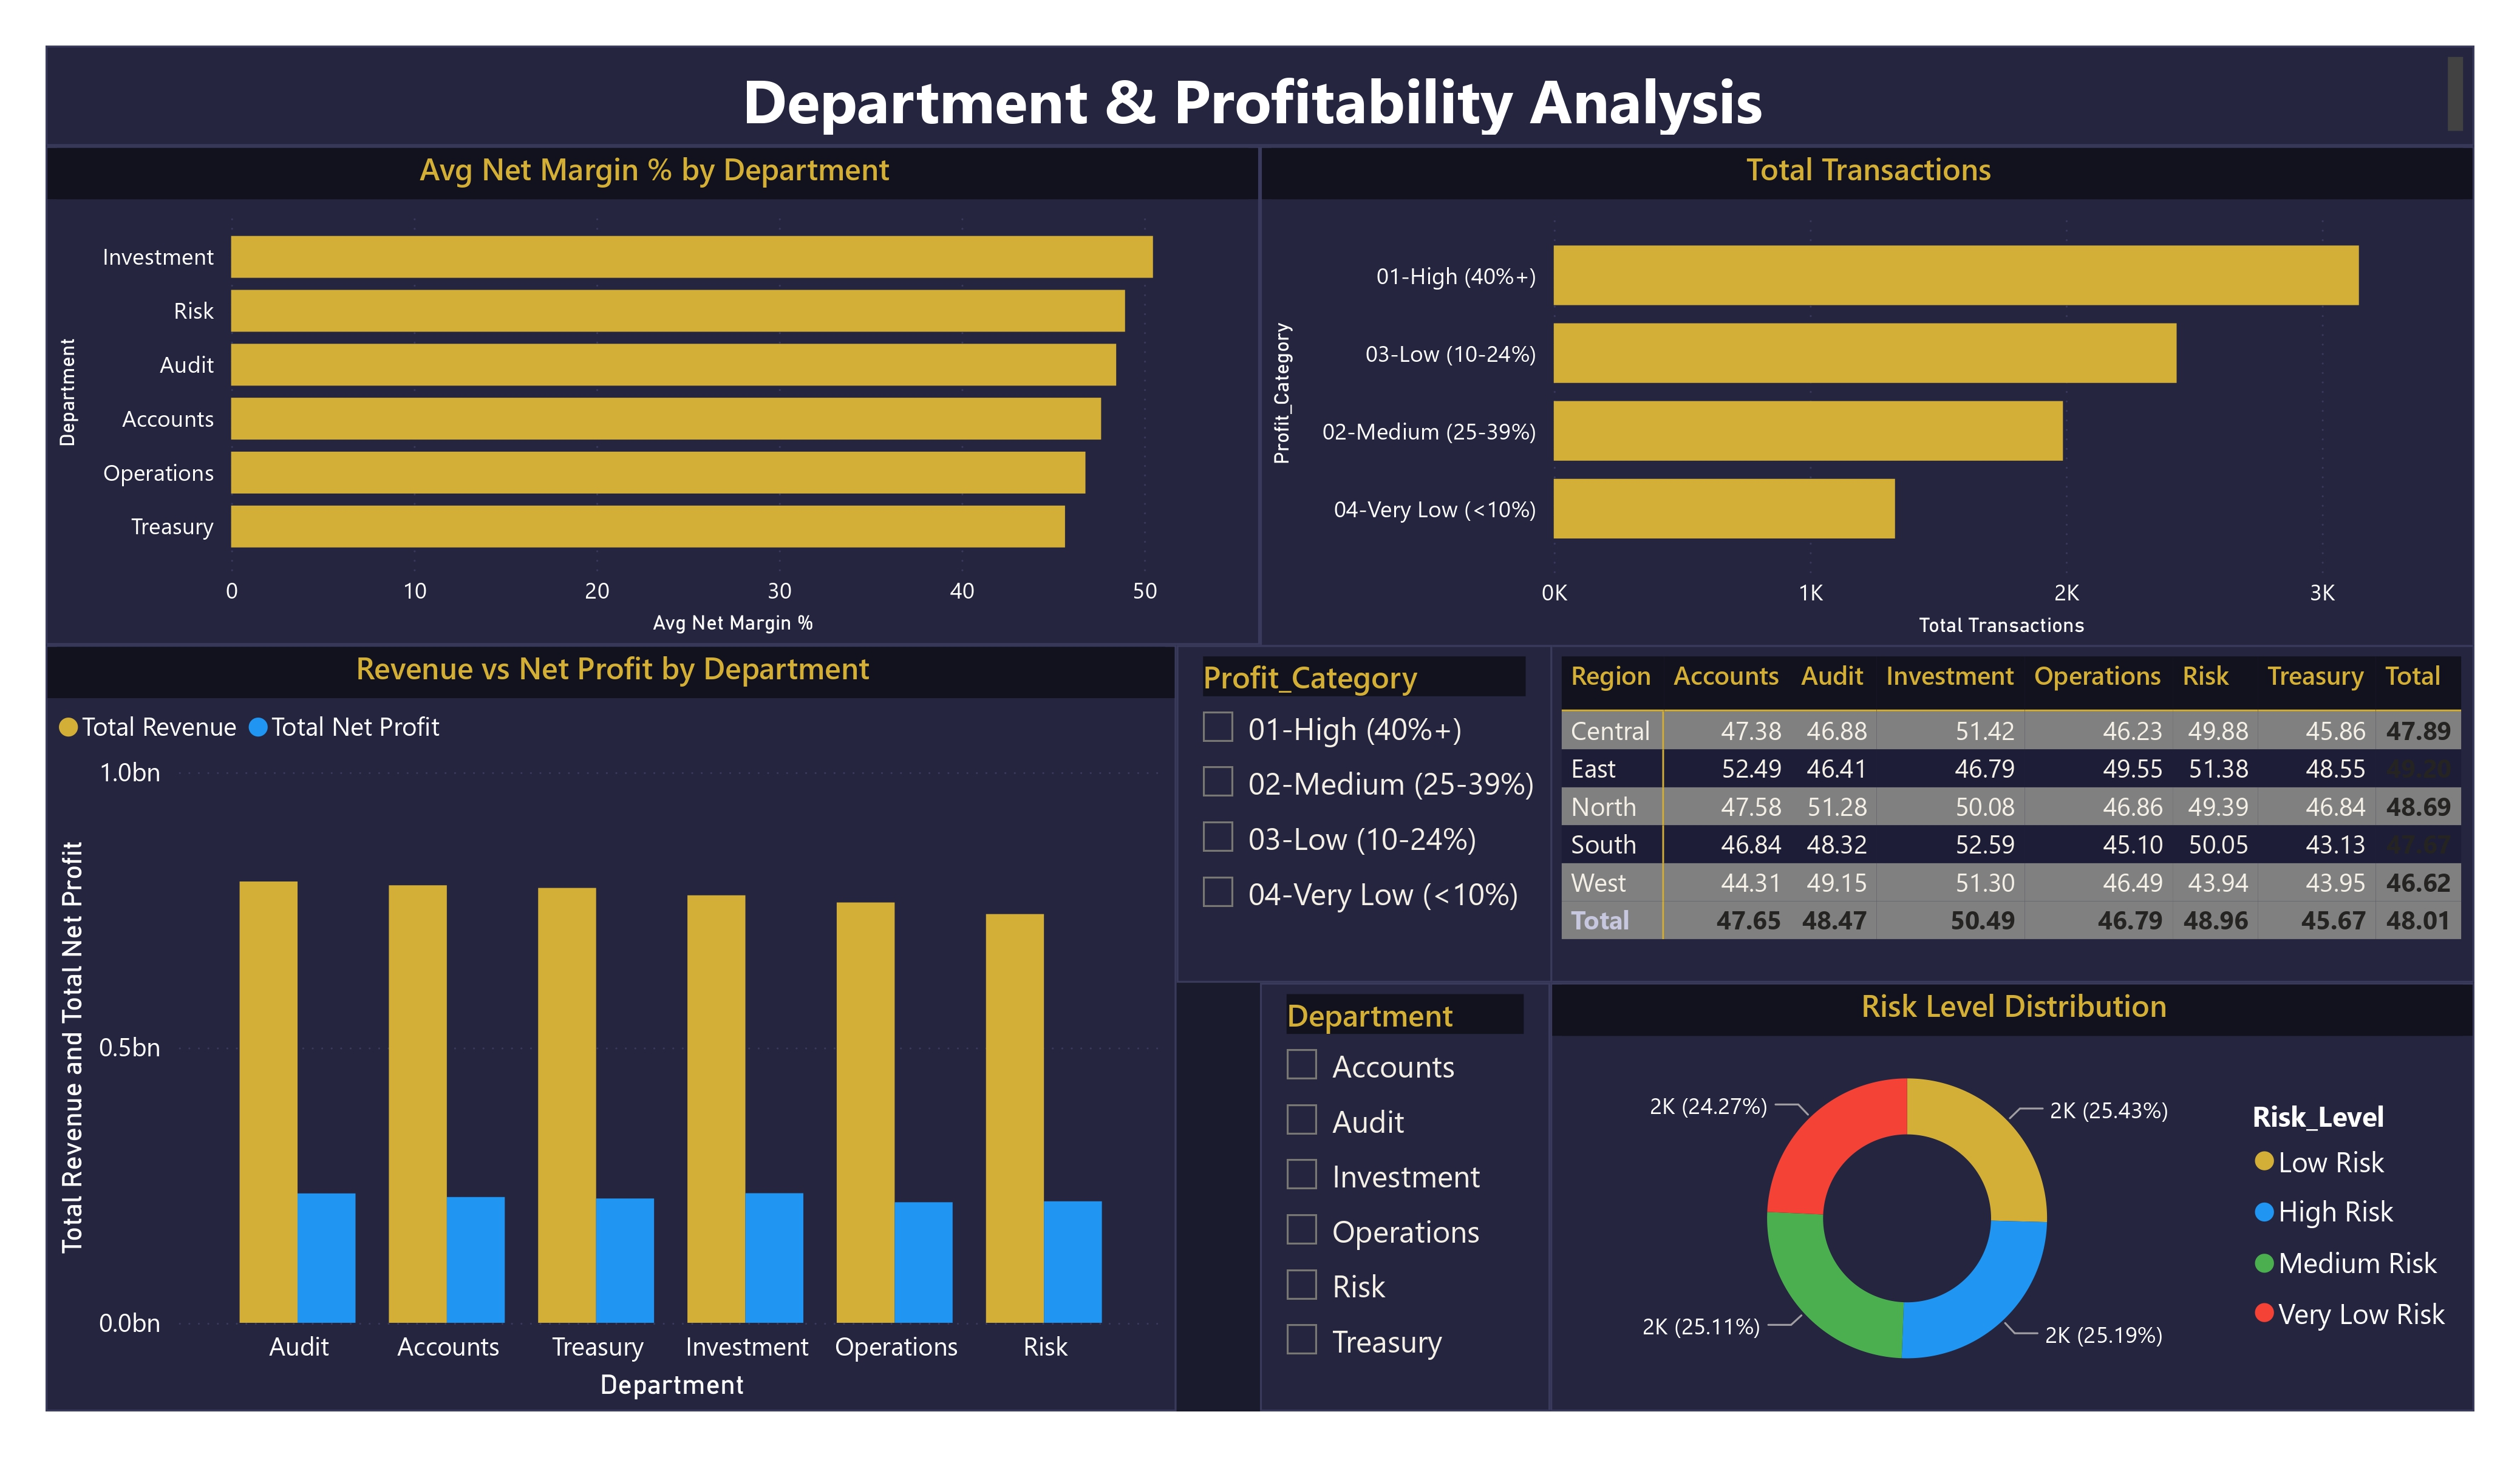

Layout of this report page (visuals, bound fields, positions):
{"tool":"powerbi","page":{"name":"Department & Profitability Analysis","canvas":[1280,720],"ordinal":1},"visuals":[{"type":"textbox","box":[0,0,1280.3,53],"z":0},{"type":"clusteredBarChart","fields":{"Category":["financial_data.Department"],"Y":["financial_data.Avg Net Margin %"]},"box":[0,53,640.1,263.5],"z":1000},{"type":"clusteredColumnChart","title":"Revenue vs Net Profit by Department","fields":{"Category":["financial_data.Department"],"Y":["financial_data.Total Revenue","financial_data.Total Net Profit"]},"box":[0,316.1,595.6,404.1],"z":2000},{"type":"clusteredBarChart","title":"Total Transactions","fields":{"Y":["financial_data.Total Transactions"],"Category":["financial_data.Profit_Category"]},"box":[640,53,640,264],"z":3000},{"type":"pivotTable","fields":{"Columns":["financial_data.Department"],"Rows":["financial_data.Region"],"Values":["financial_data.Avg Net Margin %"]},"box":[793.4,316.5,486.9,177.6],"z":4000},{"type":"donutChart","title":"Risk Level Distribution","fields":{"Category":["financial_data.Risk_Level"],"Y":["financial_data.Total Transactions"]},"box":[793.4,494.1,486.9,226.3],"z":5000},{"type":"slicer","fields":{"Values":["financial_data.Profit_Category"]},"box":[595.6,316.1,198.1,178.1],"z":6000},{"type":"slicer","fields":{"Values":["financial_data.Department"]},"box":[640.1,494.1,153.2,226.3],"z":7000}]}

Visuals, with their boxes on the page's 1280x720 design canvas (x1, y1, x2, y2). These are canvas units, not pixel positions in the 2520x1457 screenshot, which may show the page scaled, cropped or inside an application window:
textbox: [left=0, top=0, right=1280, bottom=53]
clusteredBarChart - financial_data.Department x financial_data.Avg Net Margin %: [left=0, top=53, right=640, bottom=316]
"Revenue vs Net Profit by Department" clusteredColumnChart: [left=0, top=316, right=596, bottom=720]
"Total Transactions" clusteredBarChart: [left=640, top=53, right=1280, bottom=317]
pivotTable - financial_data.Department x financial_data.Region: [left=793, top=316, right=1280, bottom=494]
"Risk Level Distribution" donutChart: [left=793, top=494, right=1280, bottom=720]
slicer - financial_data.Profit_Category: [left=596, top=316, right=794, bottom=494]
slicer - financial_data.Department: [left=640, top=494, right=793, bottom=720]
